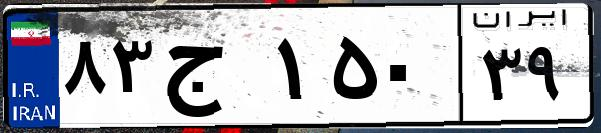0: (385, 28, 445, 110)
1: (270, 28, 330, 110)
3: (475, 38, 525, 113), (110, 28, 158, 98)
5: (330, 28, 385, 110)
8: (57, 26, 110, 100)
9: (525, 38, 570, 115)
ج: (158, 20, 270, 120)
